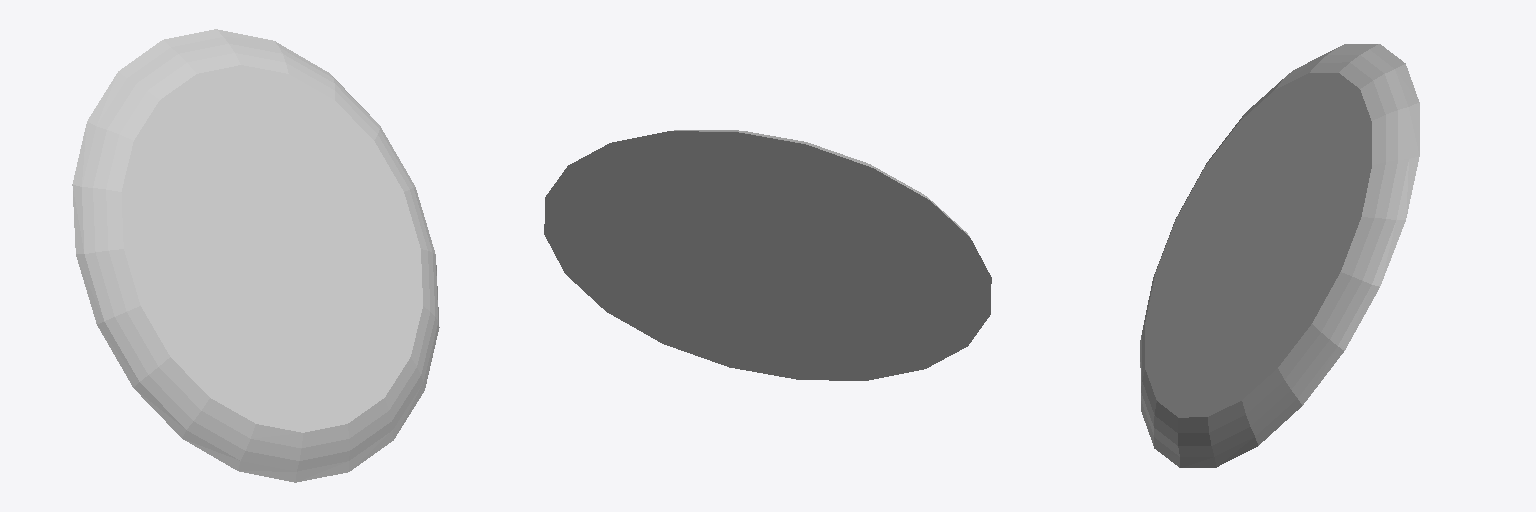
The model's file is xiongpai_1.obj.
3 renders of one model, left to right at view 1: azimuth 30°, elevation 25°; view 2: azimuth 150°, elevation 25°; view 3: azimuth 270°, elevation 25°, orthographic.
Visible parts, largest first — view 1: xiongpai2:polySurface462 xiongpai2:polySurface524 xiongpai2:poly; view 2: xiongpai2:polySurface462 xiongpai2:polySurface524 xiongpai2:poly; view 3: xiongpai2:polySurface462 xiongpai2:polySurface524 xiongpai2:poly.
Boxes of the visible parts, x1=… form: xiongpai2:polySurface462 xiongpai2:polySurface524 xiongpai2:poly: x1=72, y1=29, x2=439, y2=482; xiongpai2:polySurface462 xiongpai2:polySurface524 xiongpai2:poly: x1=544, y1=130, x2=991, y2=380; xiongpai2:polySurface462 xiongpai2:polySurface524 xiongpai2:poly: x1=1140, y1=44, x2=1419, y2=467.
Size of the model in its own units: 7.66 by 6.79 by 4.84.